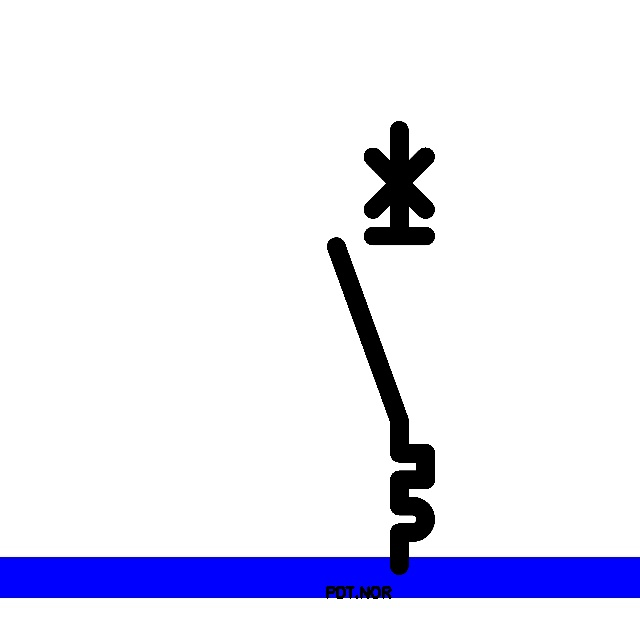interruptor_termomagnetico: (325, 119, 437, 577)
